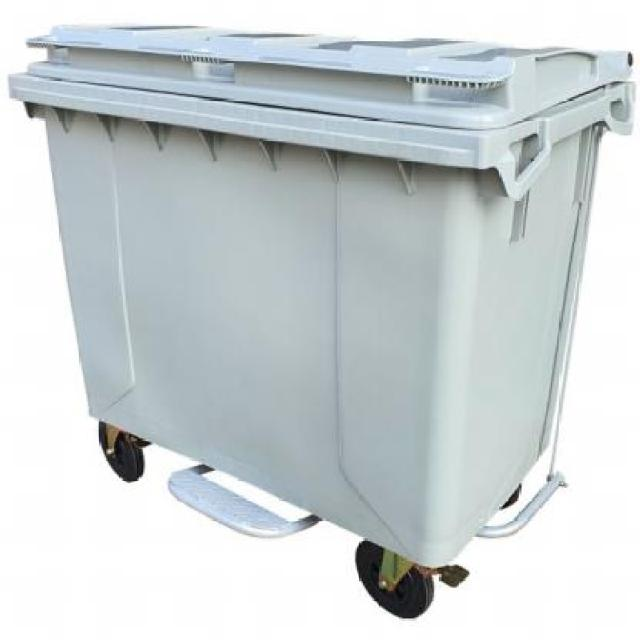garbage container: (0, 15, 638, 639)
